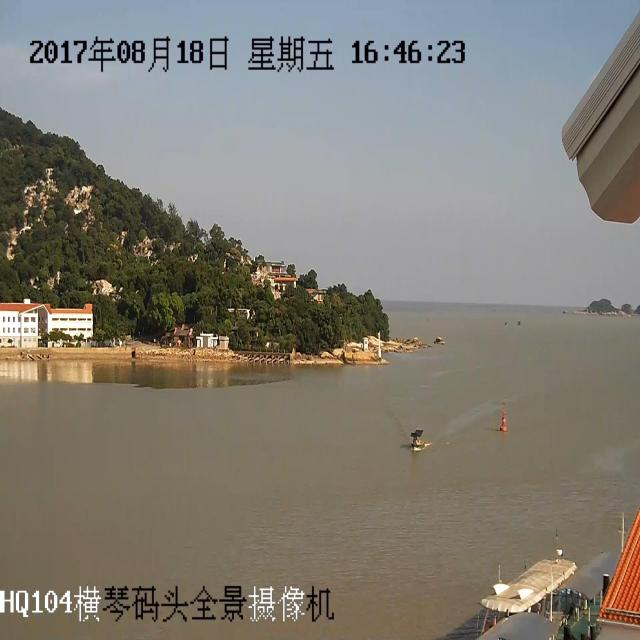buoy: (489, 390, 522, 434)
fishing boat: (397, 412, 431, 463)
